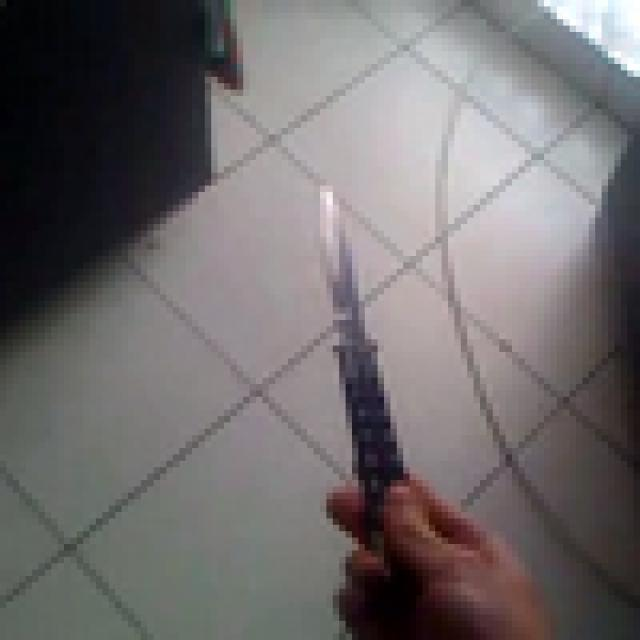Knife: (250, 160, 473, 576)
